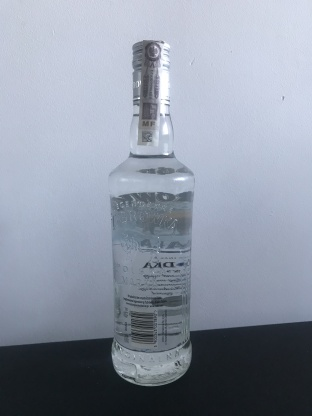nakretka: (129, 34, 173, 110)
